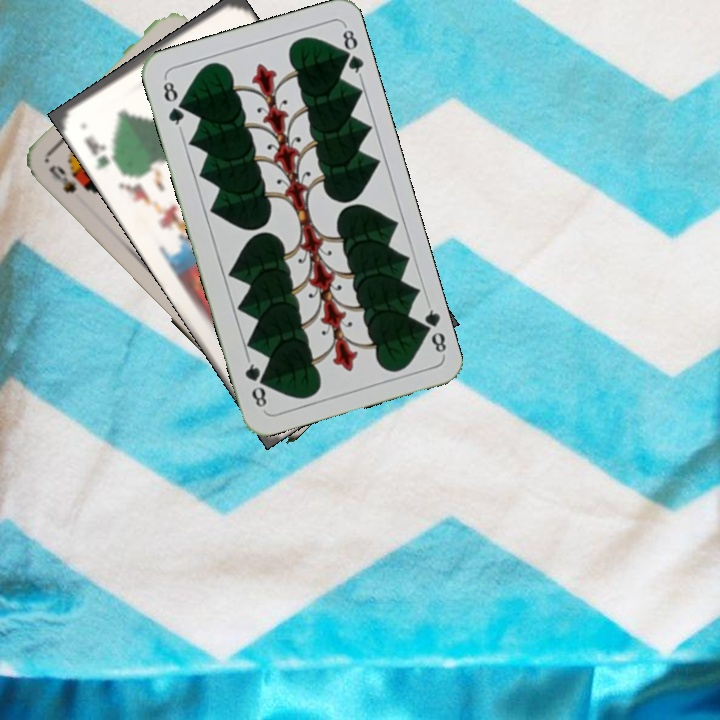G8: (414, 299, 449, 357), (159, 74, 187, 132)
GK: (80, 131, 121, 172)
SO: (44, 161, 79, 196)
